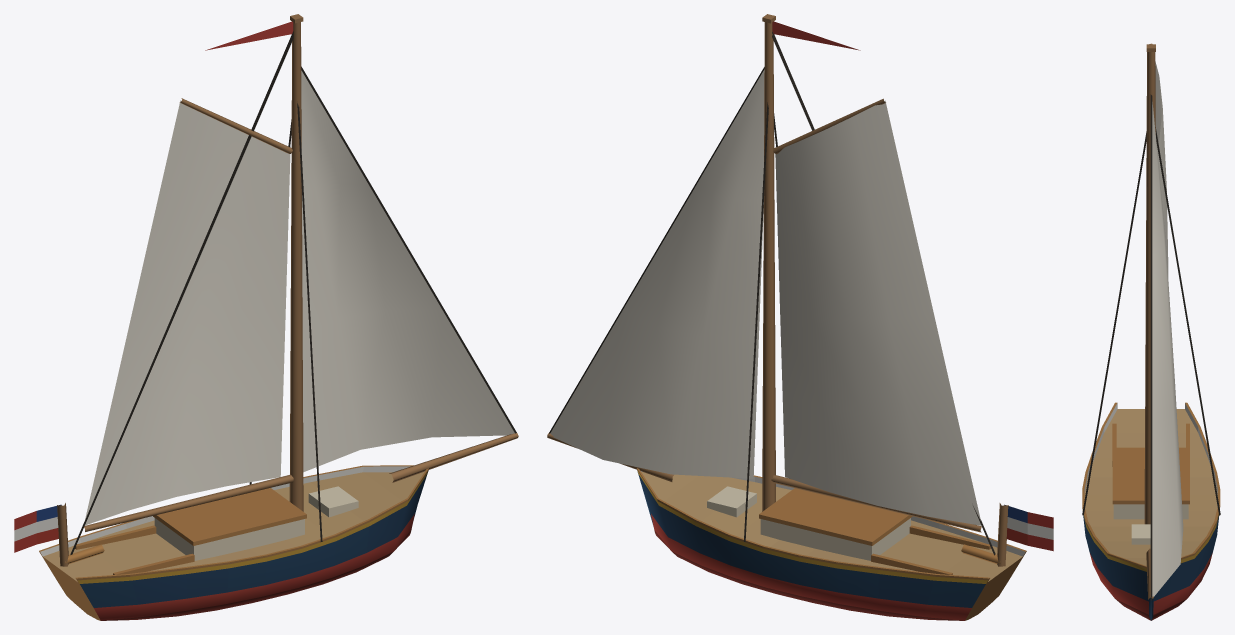
The model's file is hull_usd_sloop_small.glb.
3 renders of one model, left to right at view 1: azimuth 30°, elevation 25°; view 2: azimuth 150°, elevation 25°; view 3: azimuth 270°, elevation 25°, orthographic. The views are drawn at different scales.
Parts seen in each view (by area): view 1: sail_main, sail_jib, hull, deck, mast, rigging, boom_spar, flag, gaff; view 2: sail_main, sail_jib, hull, deck, mast, rigging, flag, boom_spar; view 3: hull, sail_jib, deck, rigging, mast, sail_main.
Boxes of the visible parts, box(x1,y1,x2,y2) form: sail_main: box(85, 100, 290, 525); sail_jib: box(301, 70, 514, 472); hull: box(39, 465, 428, 620); deck: box(65, 486, 358, 574); mast: box(57, 14, 518, 566); rigging: box(70, 35, 516, 554); boom_spar: box(84, 31, 293, 531); flag: box(14, 21, 293, 552); gaff: box(179, 98, 292, 153); sail_main: box(775, 100, 981, 525); sail_jib: box(550, 69, 764, 478); hull: box(636, 468, 1026, 620); deck: box(707, 486, 1000, 574); mast: box(547, 14, 1008, 566); rigging: box(549, 35, 995, 555); flag: box(772, 21, 1053, 551); boom_spar: box(771, 31, 981, 532); hull: box(1082, 402, 1220, 620); sail_jib: box(1152, 102, 1183, 596); deck: box(1112, 423, 1189, 544); rigging: box(1082, 94, 1220, 600); mast: box(1144, 44, 1155, 599); sail_main: box(1155, 61, 1168, 276).
Size of the model in its own units: 13.62 by 14.54 by 3.39.
